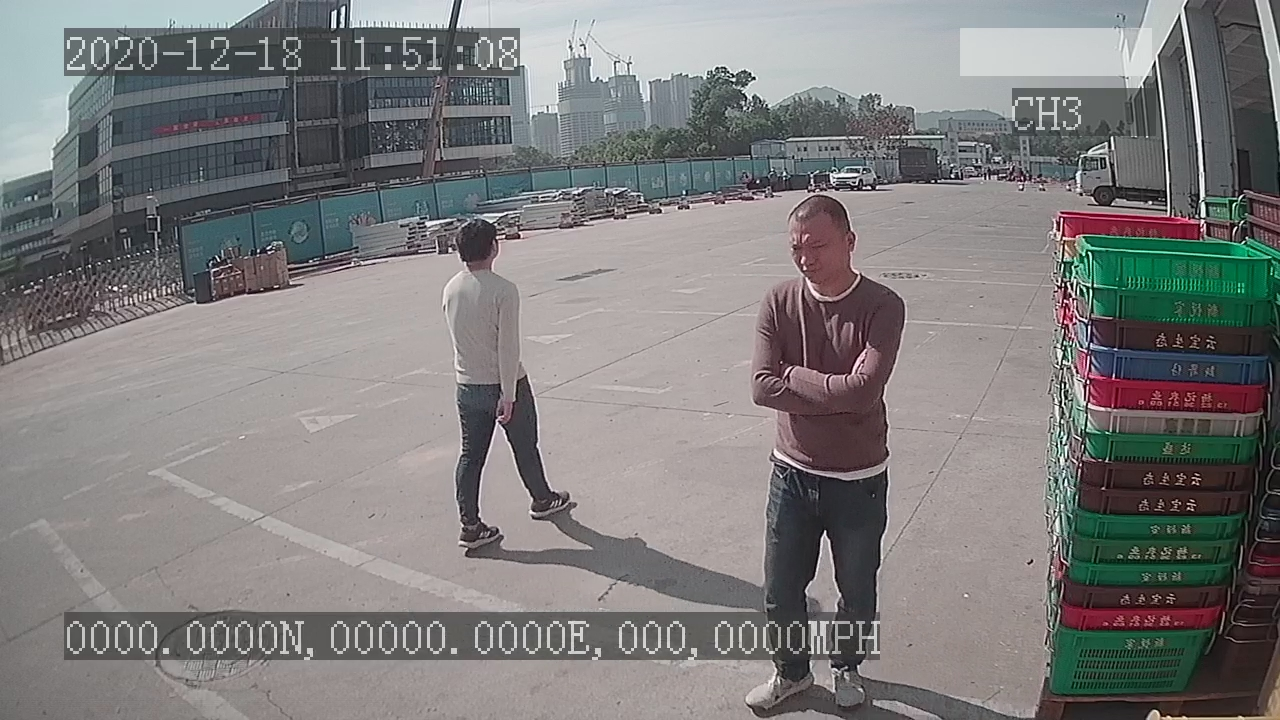person: (436, 215, 583, 554)
